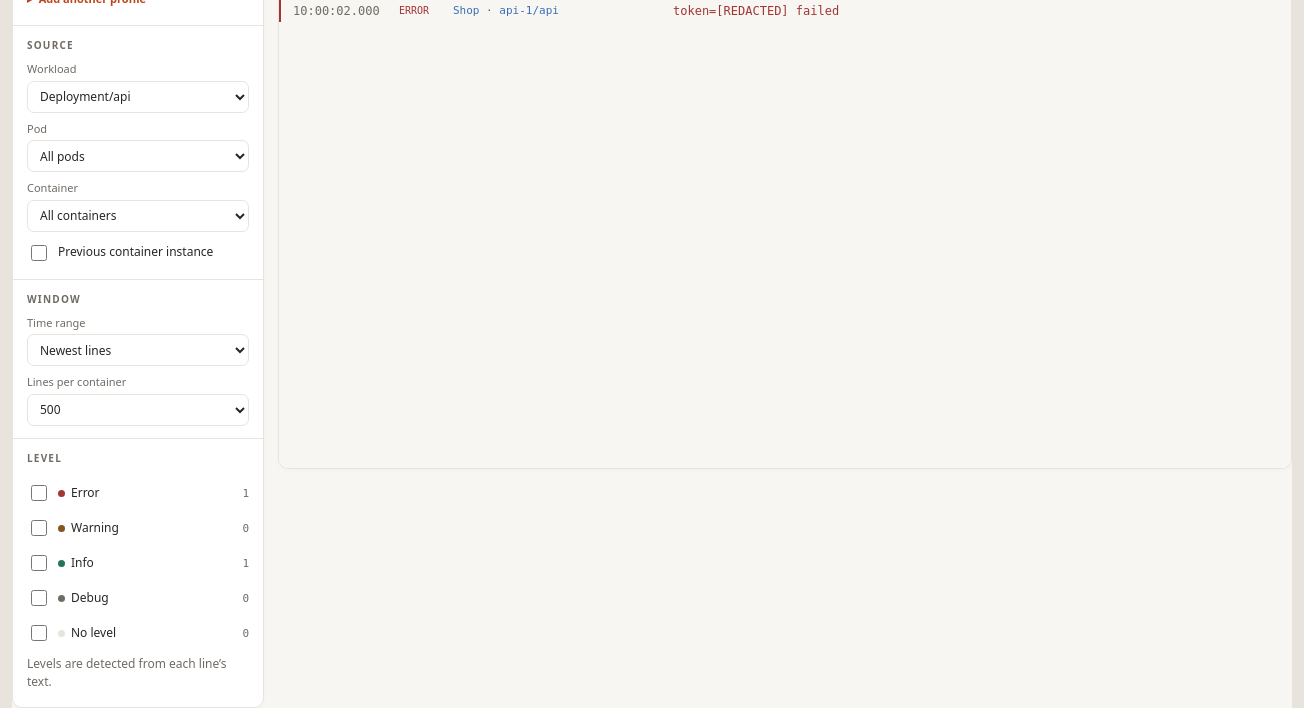
Test: deep links filter by scope and workload and keep filters in the address
The image size is (1304, 708).
(page scrolled)
Click the checkbox labelled "Error 1".
click(39, 493)  # box [31,485,47,501]
(page scrolled)
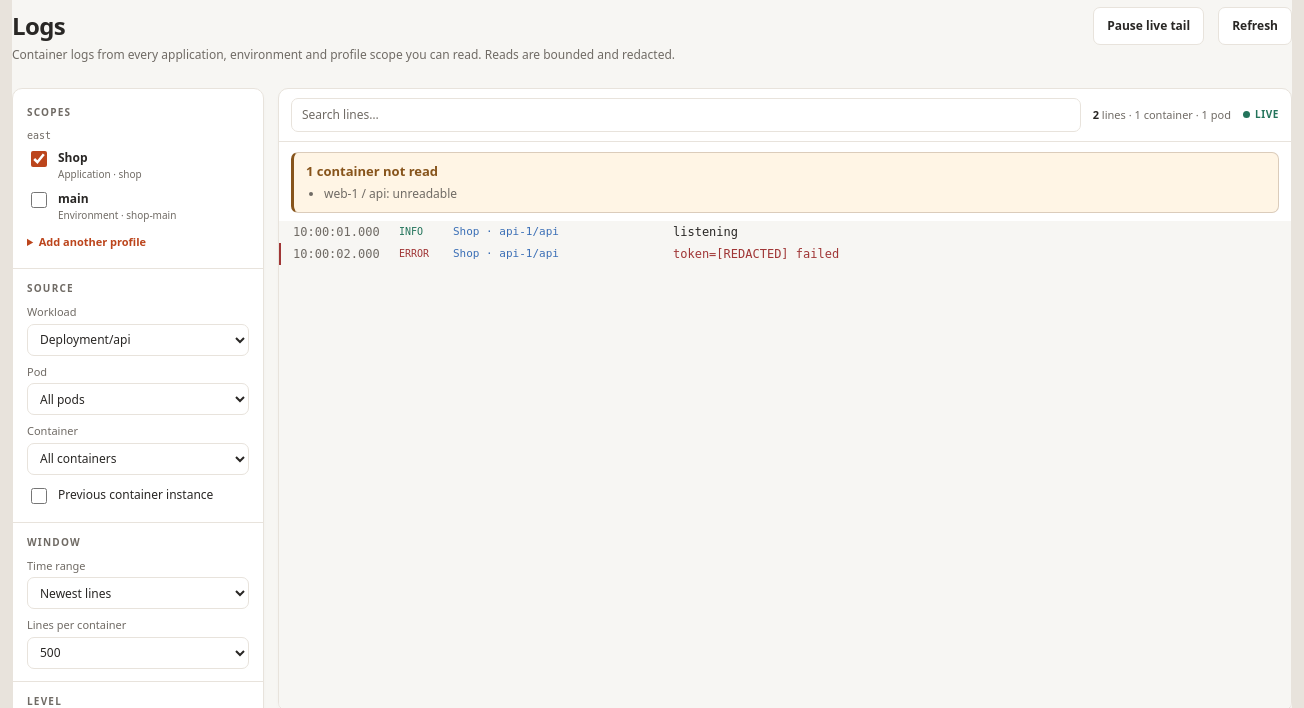
Click the button "Pause live tail".
click(1149, 26)  # box [1093,7,1204,45]
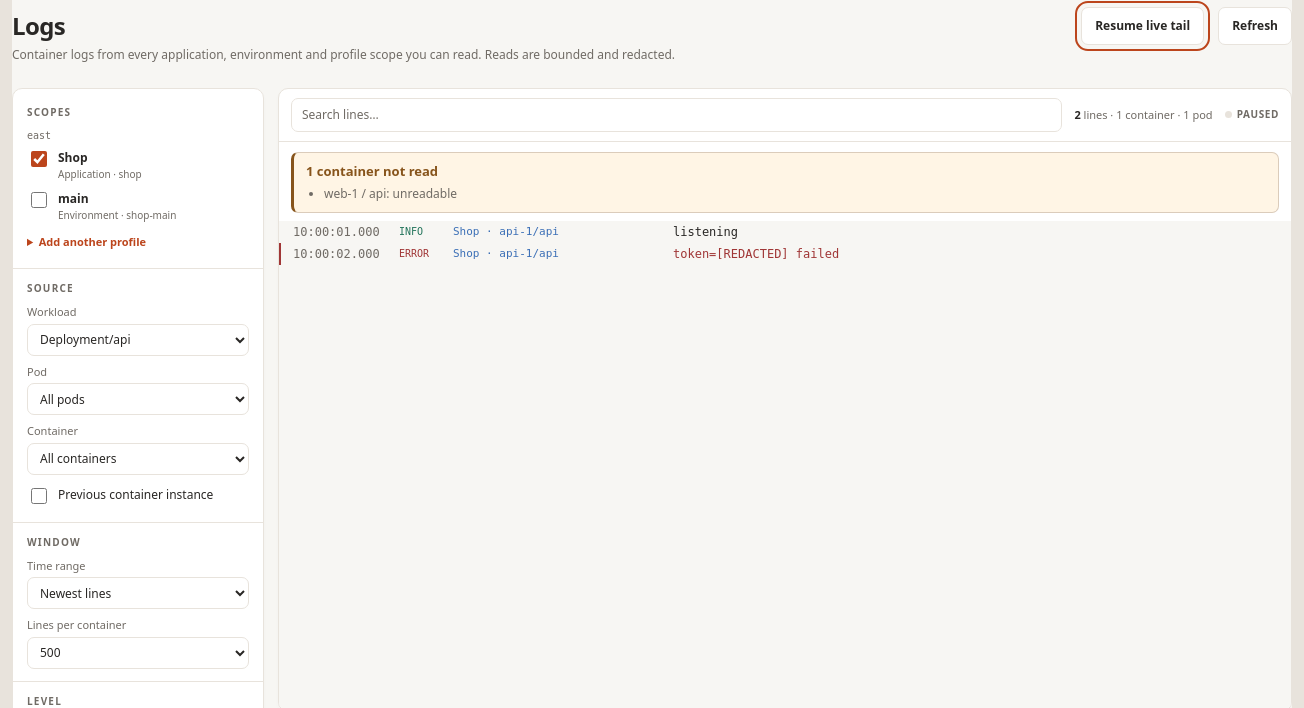
Select "Last 15 minutes" in the dropdown labelled "Time range" at (138, 594), box [27,578,249,610]
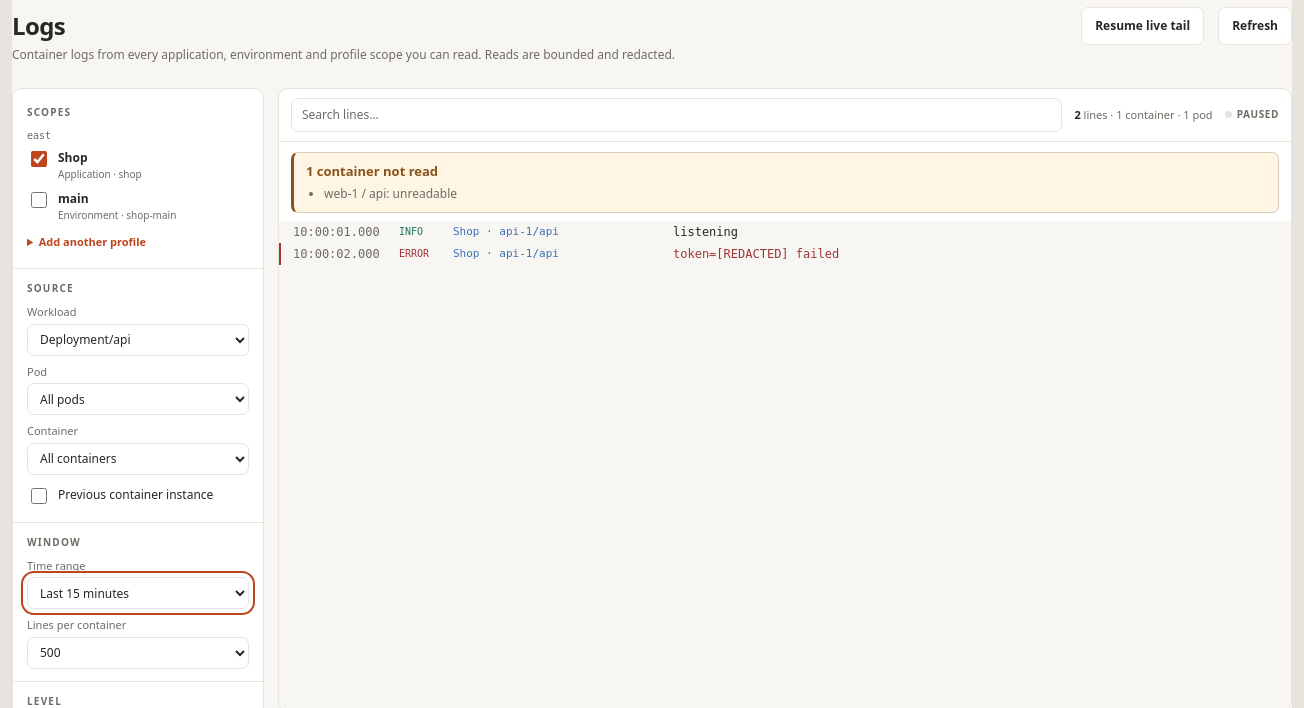
Click the text "listening".
click(706, 232)  # box [673,226,738,240]
(page scrolled)
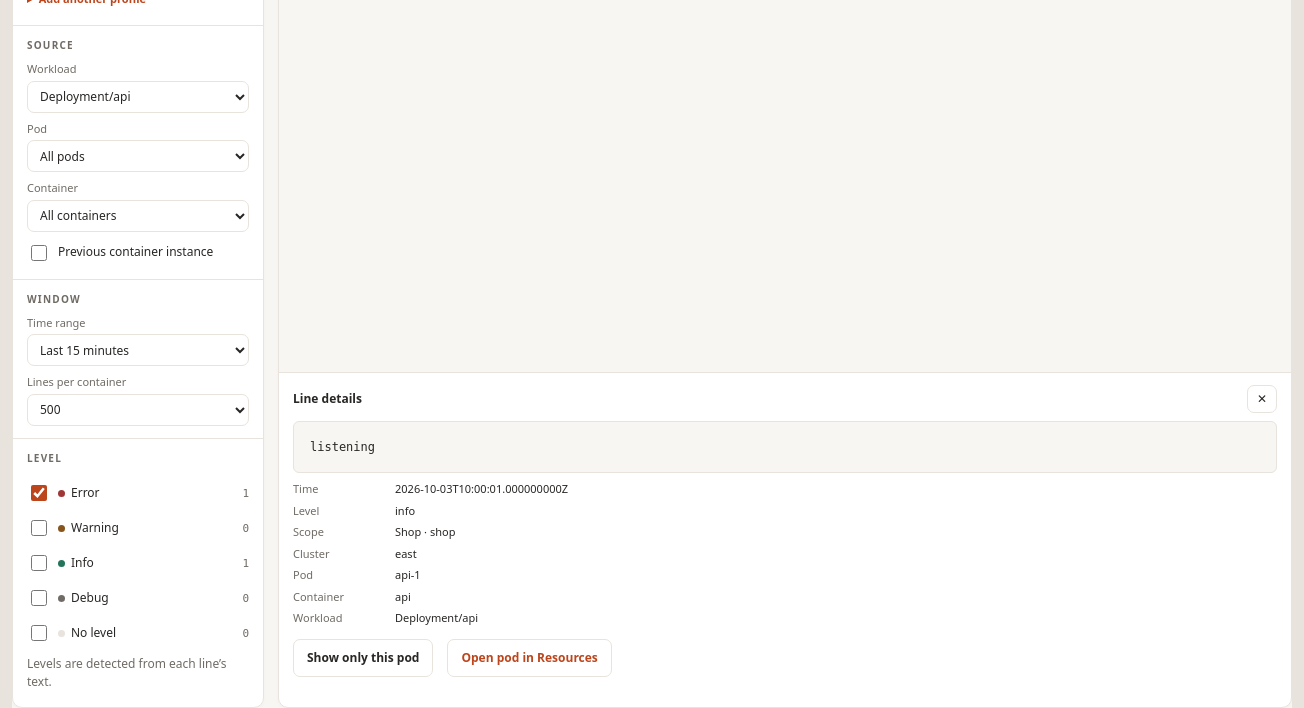
Now the text "Shop · shop" is shown, box [395,524,455,540]
